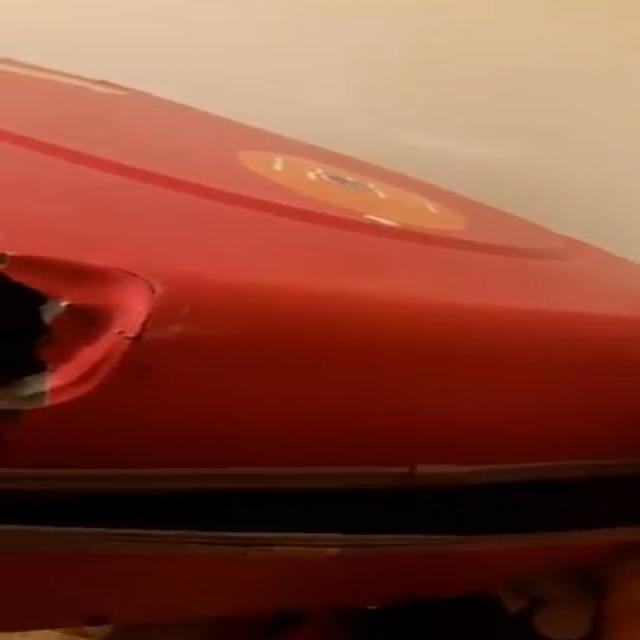Damage-bag: (0, 254, 156, 433)
